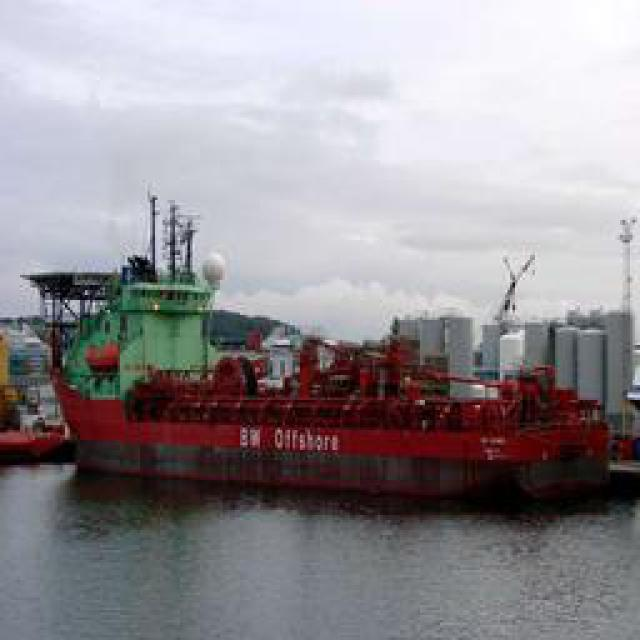Ship: (51, 216, 611, 501)
